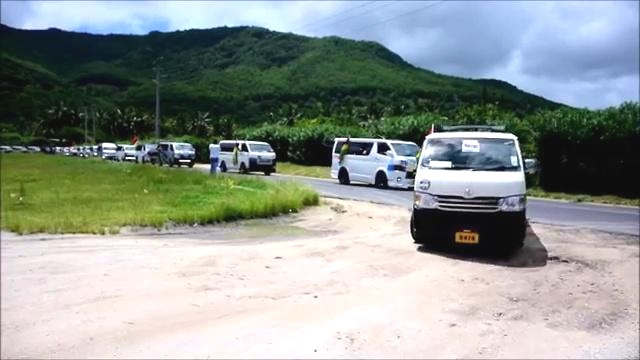van: (411, 123, 533, 257), (324, 133, 421, 193), (213, 137, 280, 173)
